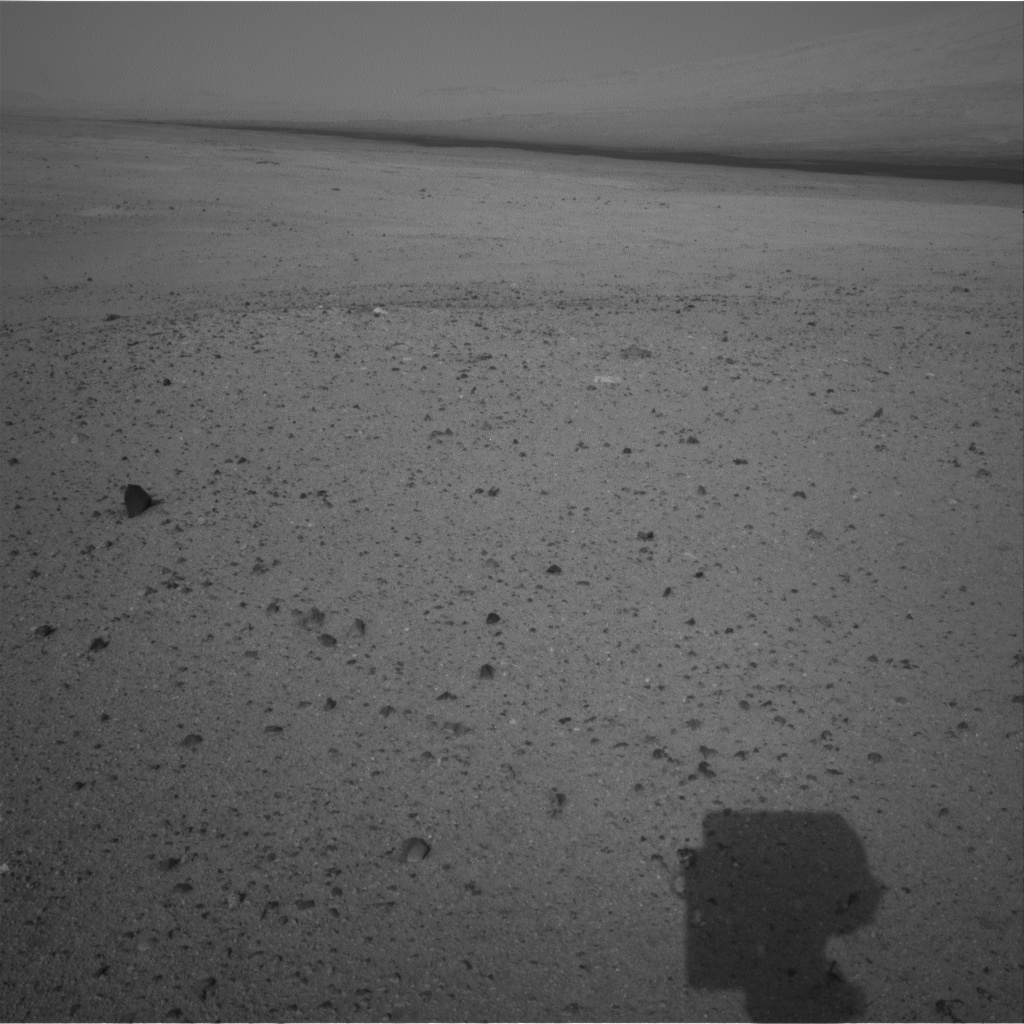soil: (6, 286, 1018, 1018)
